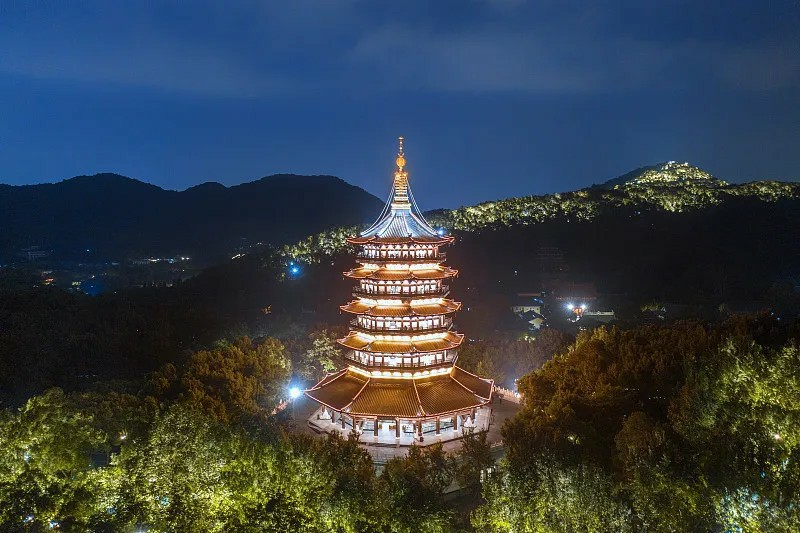Leifeng: (302, 136, 496, 448)
